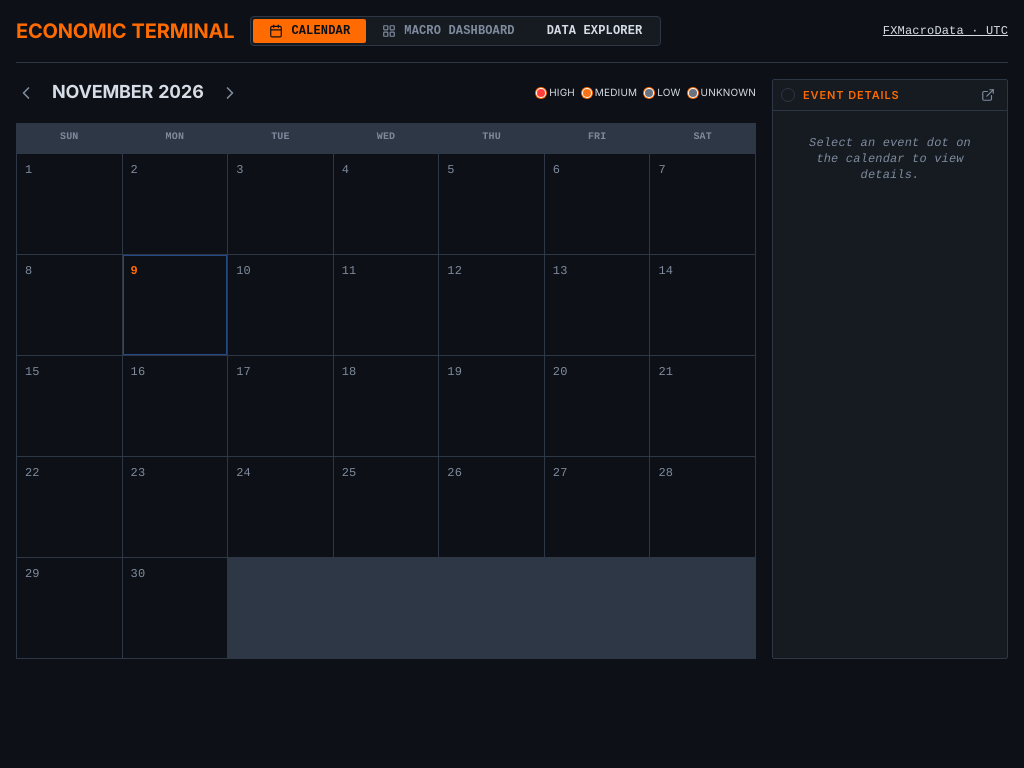
Test: rejects malformed parameters before making a query
The image size is (1024, 768).
Click the button "DATA EXPLORER" at (595, 31), box [531,19,658,43]
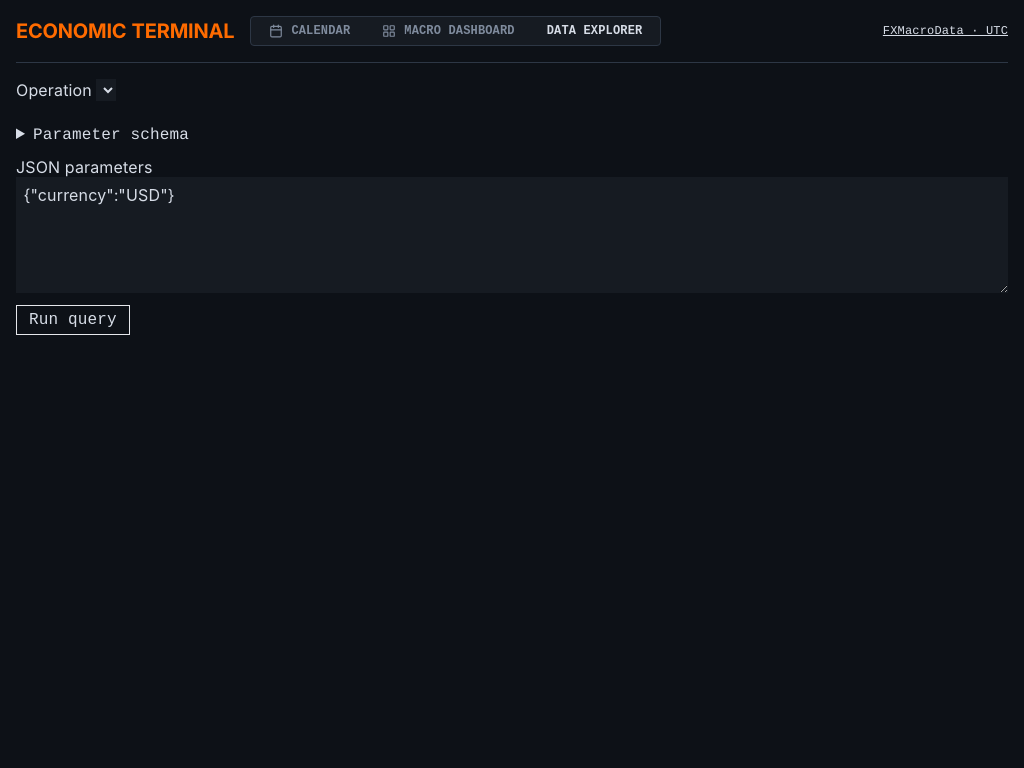
Replace the text in the text box named "FXMacroData parameters" with "[1,2]" at (512, 235), box [16,177,1008,293]
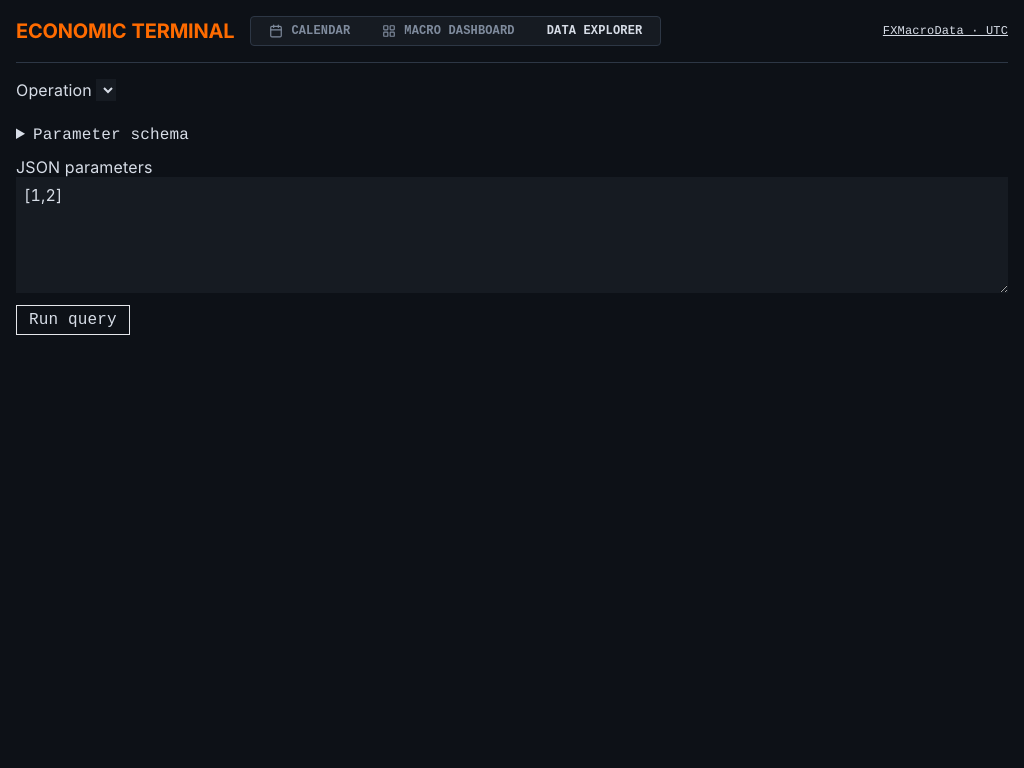
Click the button "Run query" at (73, 320), box [16,305,130,335]
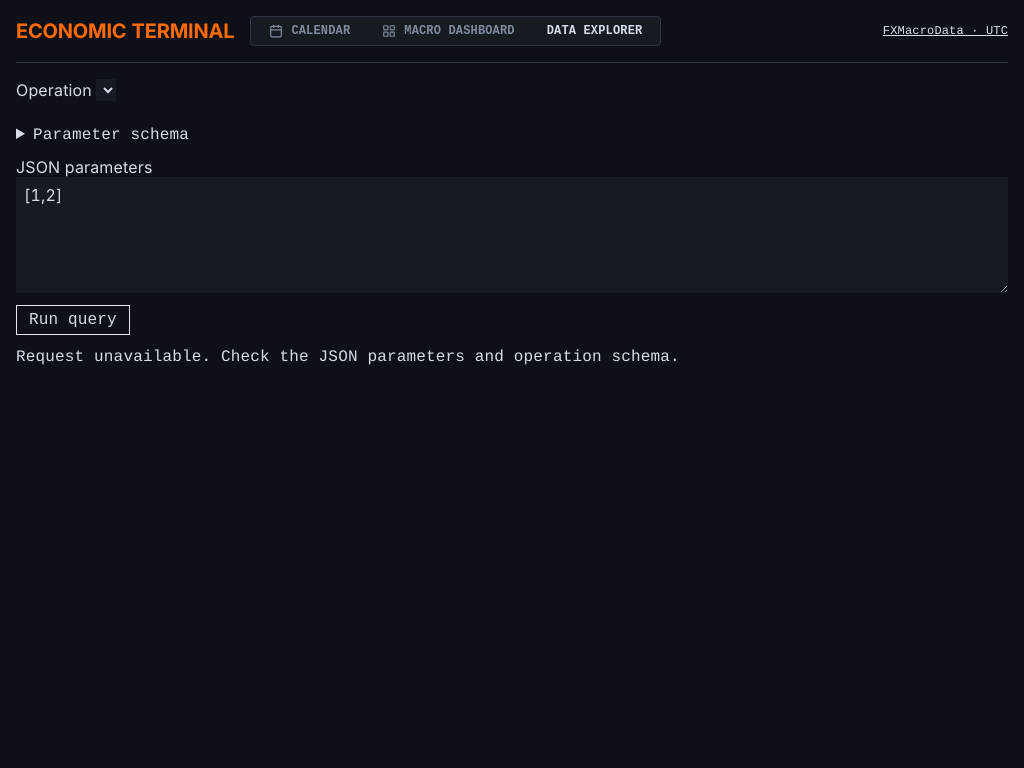
Expected: the message "Request unavailable. Check the JSON parameters and operation schema." is shown, [16,348,680,366]
